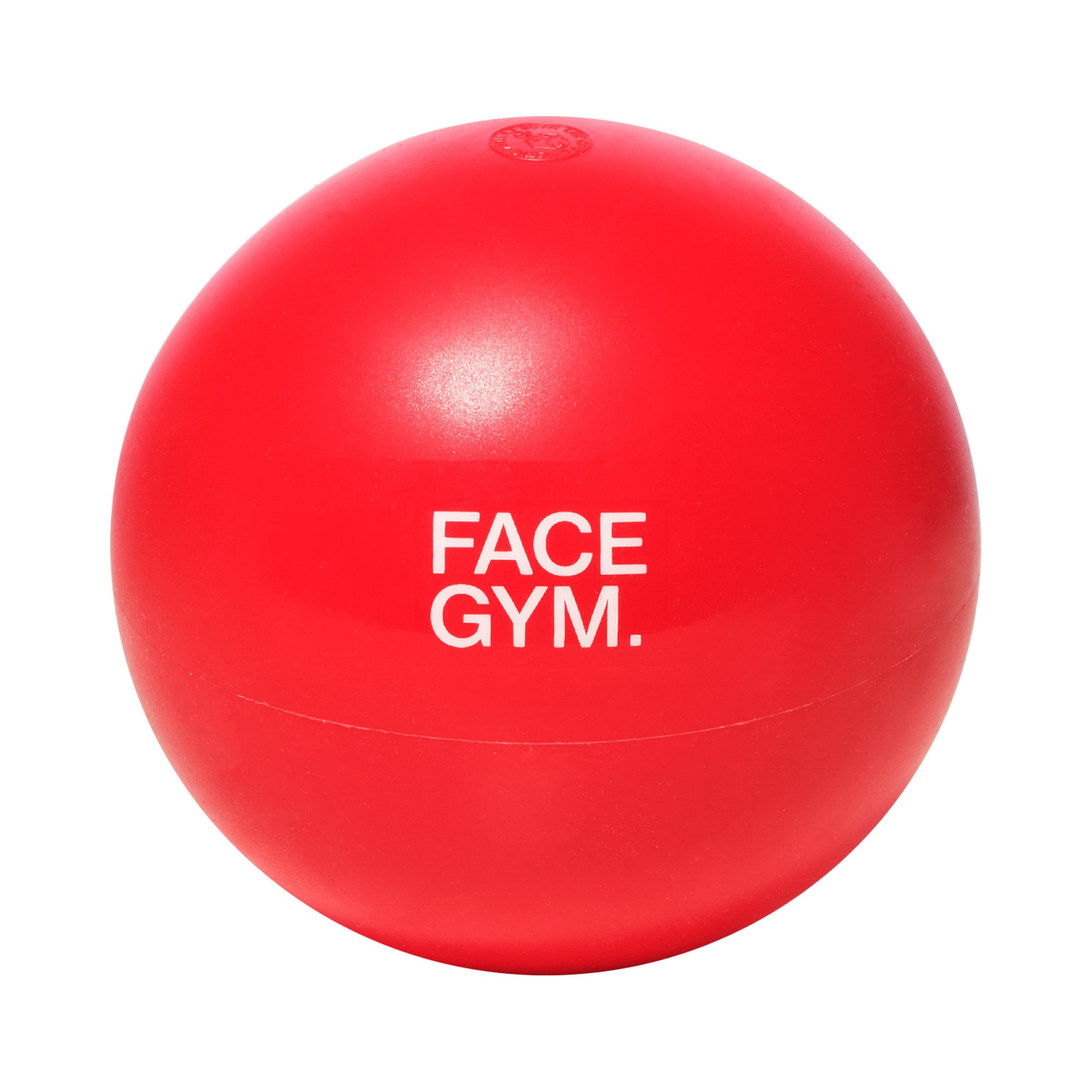sphere: (110, 116, 981, 976)
